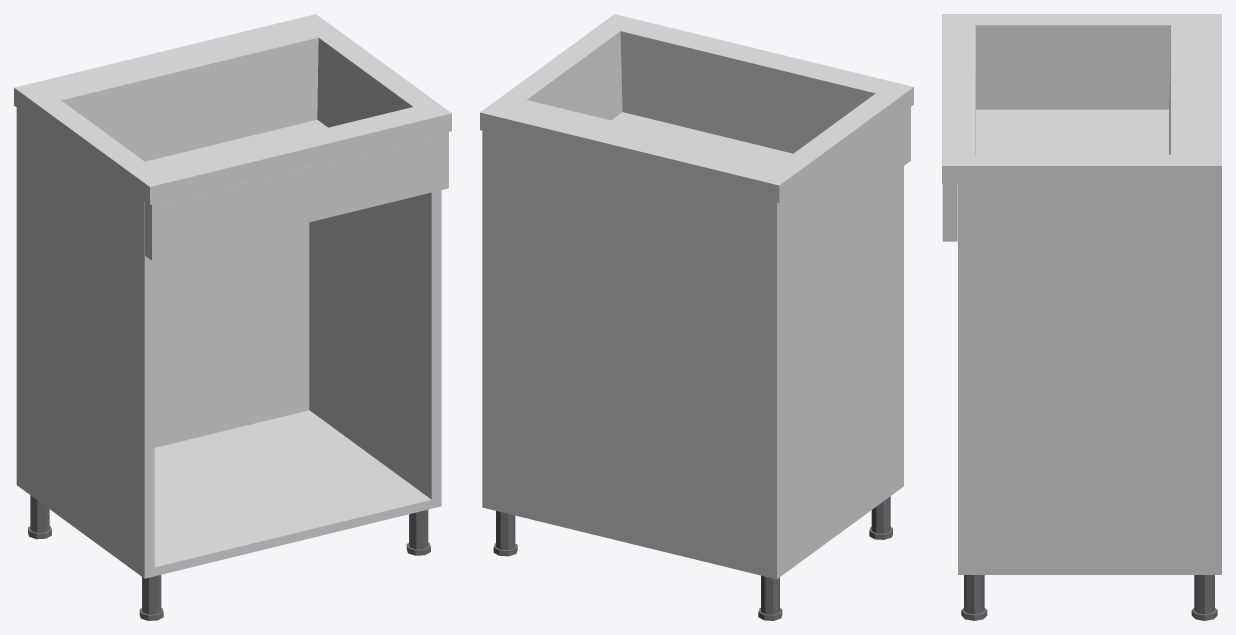
Rendered from Bathroom_C1_02.fbx.
3 renders of one model, left to right at view 1: azimuth 30°, elevation 25°; view 2: azimuth 150°, elevation 25°; view 3: azimuth 270°, elevation 25°, orthographic. The views are drawn at different scales.
Parts seen in each view (by area): view 1: Bathroom_C1_02; view 2: Bathroom_C1_02; view 3: Bathroom_C1_02.
Part boxes in pixels (x1=…): Bathroom_C1_02: x1=14, y1=14, x2=451, y2=620; Bathroom_C1_02: x1=480, y1=14, x2=913, y2=620; Bathroom_C1_02: x1=942, y1=14, x2=1221, y2=620.
Bounding box in the file's own units: 61 × 85.82 × 47.51.
